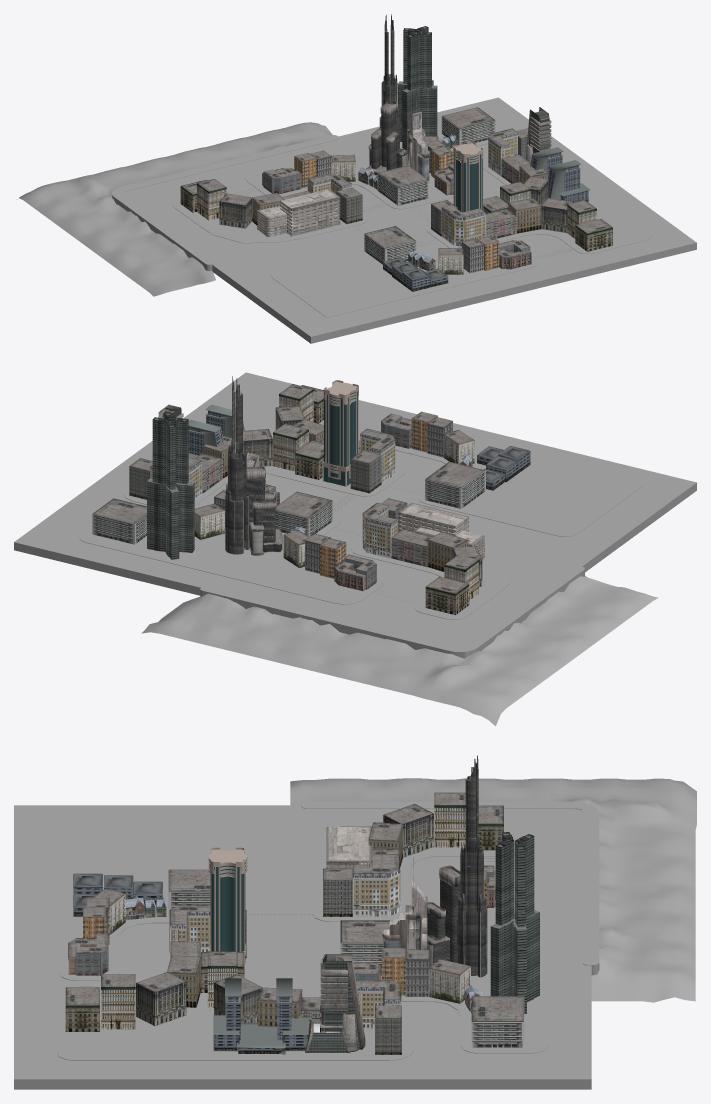
The model's file is City.fbx.
3 views of the same model, one above another, from view 1: azimuth 30°, elevation 25°; view 2: azimuth 150°, elevation 25°; view 3: azimuth 270°, elevation 25° (orthographic). The views are drawn at different scales.
Visible parts, largest first — view 1: Street, City:The_City:mesh01, City:The_City_bldgs1, Beach, Sidewalk, Beach_Sidewalk, Building_Hero, Street_Stripes, Crossing_Stripes; view 2: Street, City:The_City:mesh01, Beach, Sidewalk, City:The_City_bldgs1, Beach_Sidewalk, Building_Hero, Street_Stripes, Crossing_Stripes; view 3: Street, City:The_City:mesh01, City:The_City_bldgs1, Beach, Sidewalk, Beach_Sidewalk, Building_Hero, Street_Stripes, Crossing_Stripes.
Boxes of the visible parts, bbox=[...] form: Street: bbox=[123, 97, 696, 343]; City:The_City:mesh01: bbox=[180, 107, 612, 274]; City:The_City_bldgs1: bbox=[257, 14, 590, 291]; Beach: bbox=[17, 122, 332, 296]; Sidewalk: bbox=[172, 125, 651, 317]; Beach_Sidewalk: bbox=[112, 135, 339, 271]; Building_Hero: bbox=[453, 141, 483, 212]; Street_Stripes: bbox=[141, 101, 682, 332]; Crossing_Stripes: bbox=[231, 188, 573, 259]; Street: bbox=[14, 372, 696, 646]; City:The_City:mesh01: bbox=[92, 384, 485, 614]; Beach: bbox=[141, 576, 658, 726]; Sidewalk: bbox=[79, 394, 642, 619]; City:The_City_bldgs1: bbox=[147, 376, 530, 559]; Beach_Sidewalk: bbox=[200, 566, 584, 658]; Building_Hero: bbox=[322, 380, 358, 486]; Street_Stripes: bbox=[24, 379, 689, 640]; Crossing_Stripes: bbox=[140, 426, 436, 603]; Street: bbox=[14, 805, 591, 1089]; City:The_City:mesh01: bbox=[65, 792, 524, 1054]; City:The_City_bldgs1: bbox=[73, 755, 539, 1054]; Beach: bbox=[290, 778, 696, 1002]; Sidewalk: bbox=[57, 826, 548, 1060]; Beach_Sidewalk: bbox=[301, 801, 599, 975]; Building_Hero: bbox=[208, 847, 247, 975]; Street_Stripes: bbox=[15, 805, 577, 1076]; Crossing_Stripes: bbox=[79, 857, 495, 1045].
Size of the model in its own units: 26286 by 9548 by 23822.
10 materials, 2 textured.
